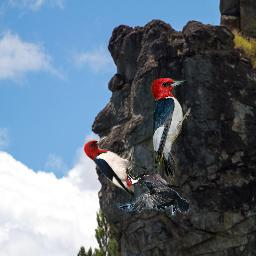Crow: (116, 180, 189, 216)
Woodpecker: (149, 78, 194, 186), (83, 136, 134, 197), (126, 166, 182, 193)
